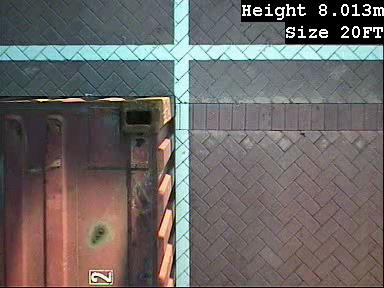groundmarker_2: (176, 147, 229, 224)
